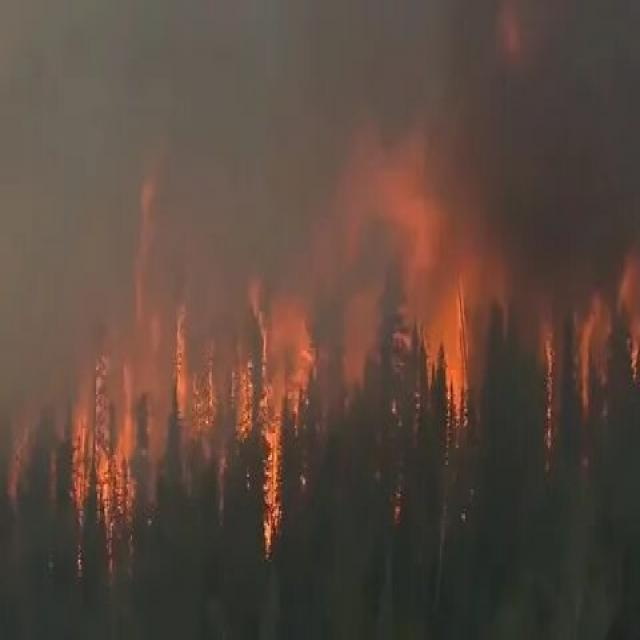Fire: (0, 311, 326, 559)
